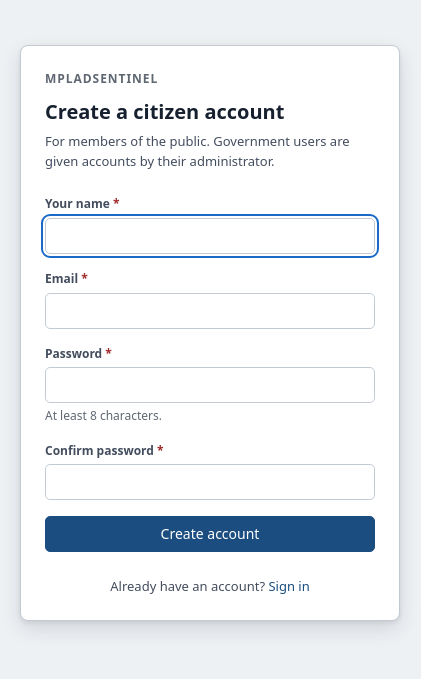
Test: RegisterPage › shows a helpful error when the email is already registered
expect the button "Create account" is shown: met, box [45,516,375,552]
Step 1. Type "Jane Citizen" into the field labelled "Your name *" → point(210, 236), box [45,218,375,254]
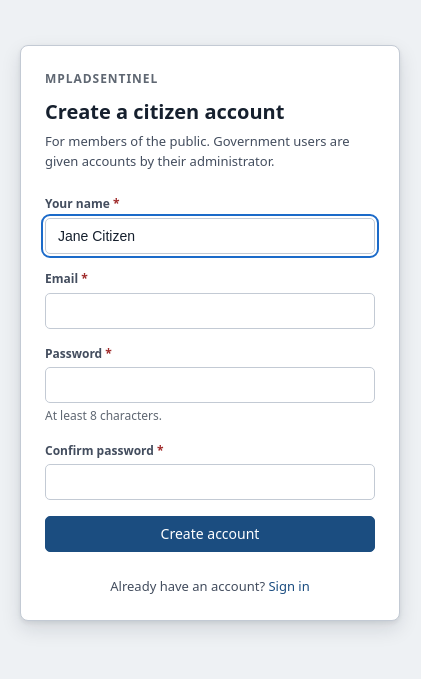
Step 2. Type "jane@example.com" into the field labelled "Email *" → point(210, 311), box [45,293,375,329]
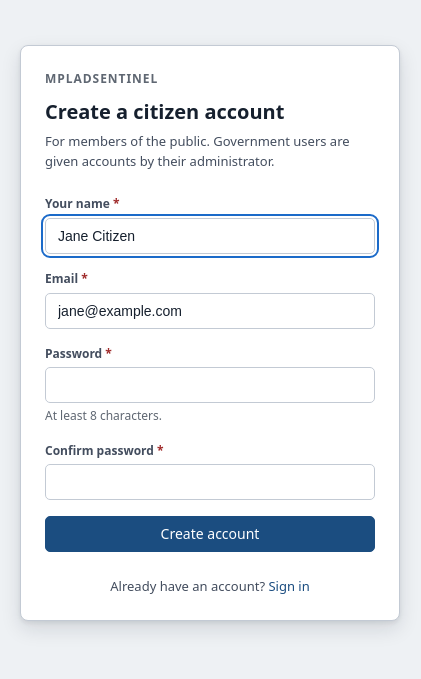
Step 3. Type "goodpassword" into the password field labelled "Password *" → point(210, 385), box [45,367,375,403]
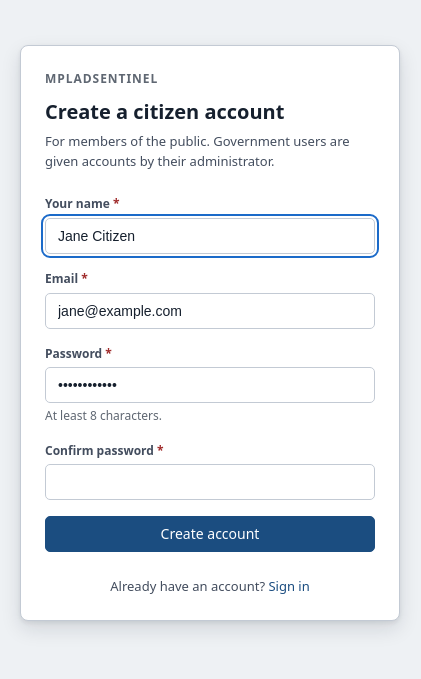
Step 4. Type "goodpassword" into the password field labelled "Confirm password *" → point(210, 482), box [45,464,375,500]
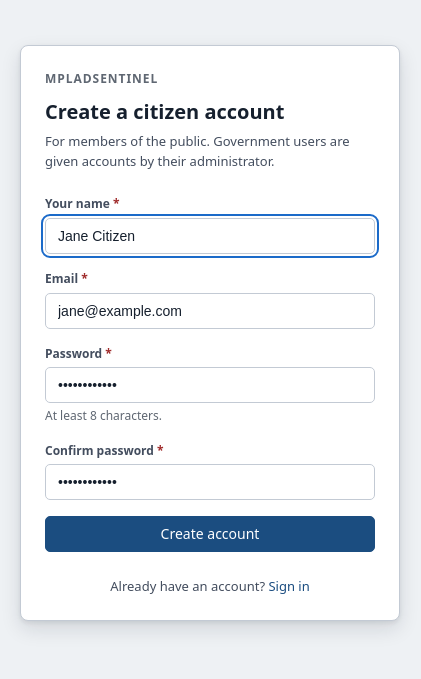
Step 5. Click the button "Create account" → point(210, 534), box [45,516,375,552]
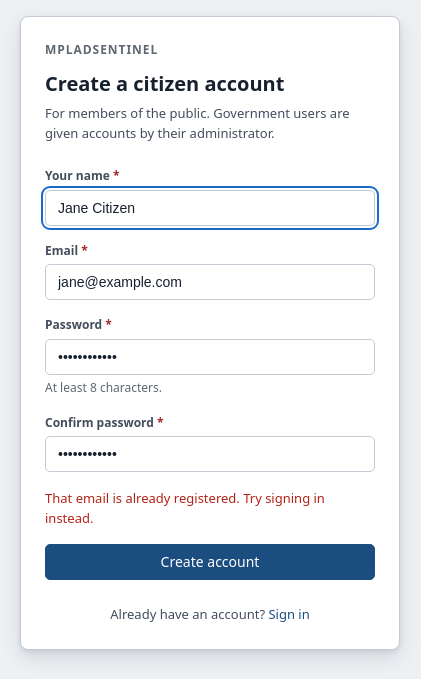
expect the button "Create account" is shown: met, box [45,544,375,580]
expect the message shows "already registered": met, box [45,489,325,527]
